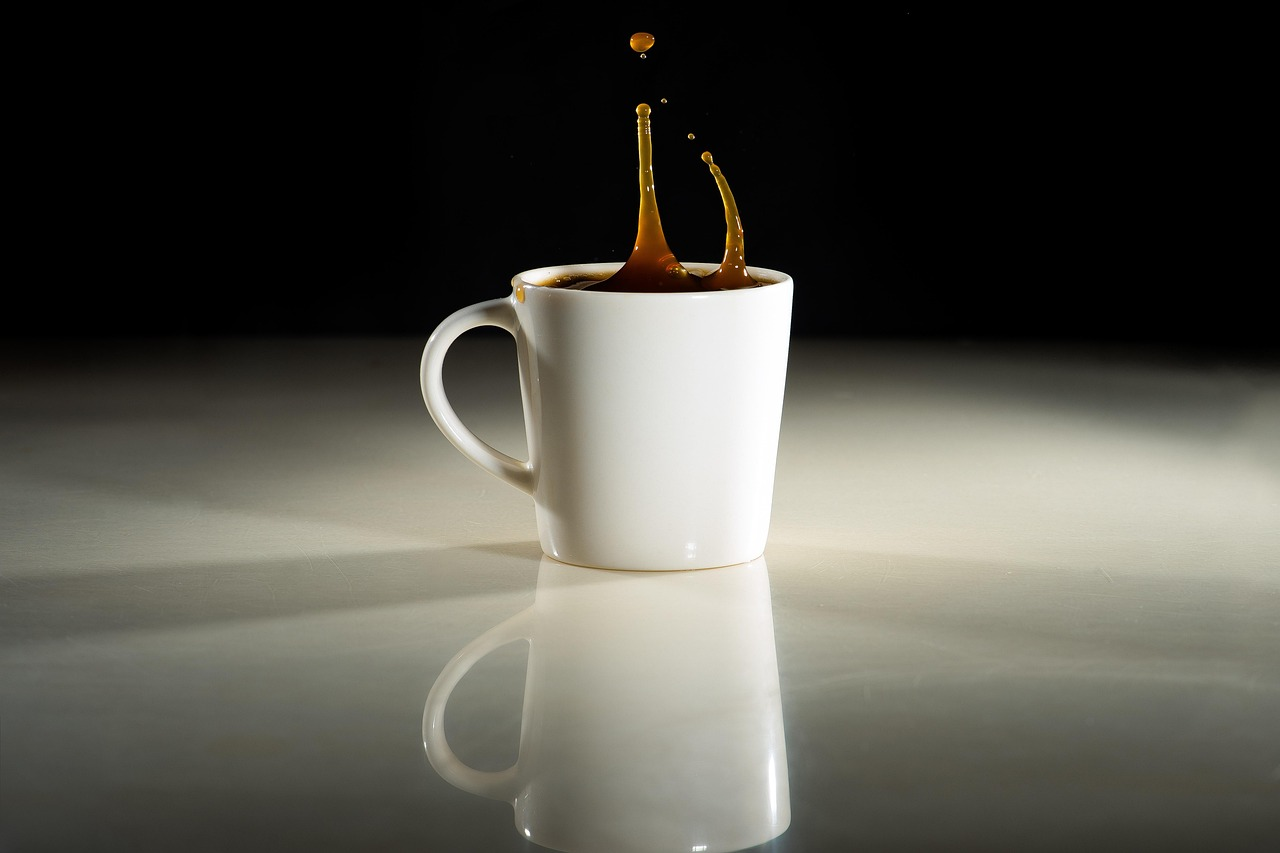mug: (315, 223, 842, 607)
